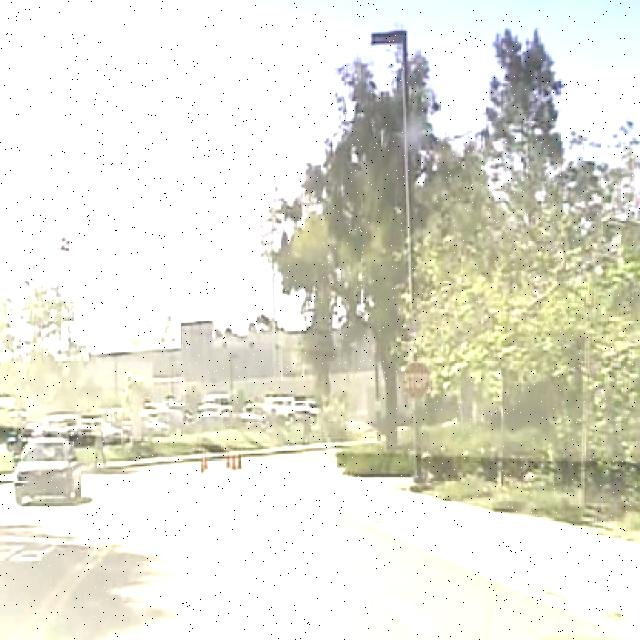Stop: (398, 360, 432, 403)
